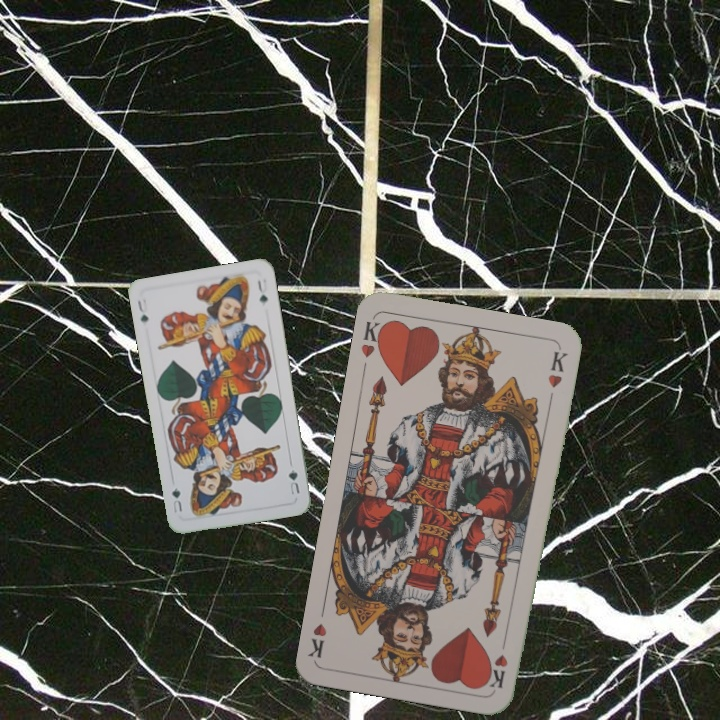GU: (133, 294, 151, 326), (285, 465, 302, 497)
HK: (357, 314, 389, 360), (487, 632, 511, 691)
